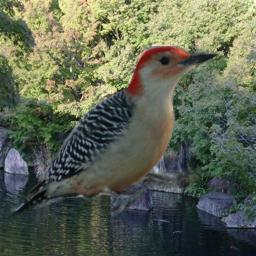Woodpecker: (10, 46, 223, 218)
